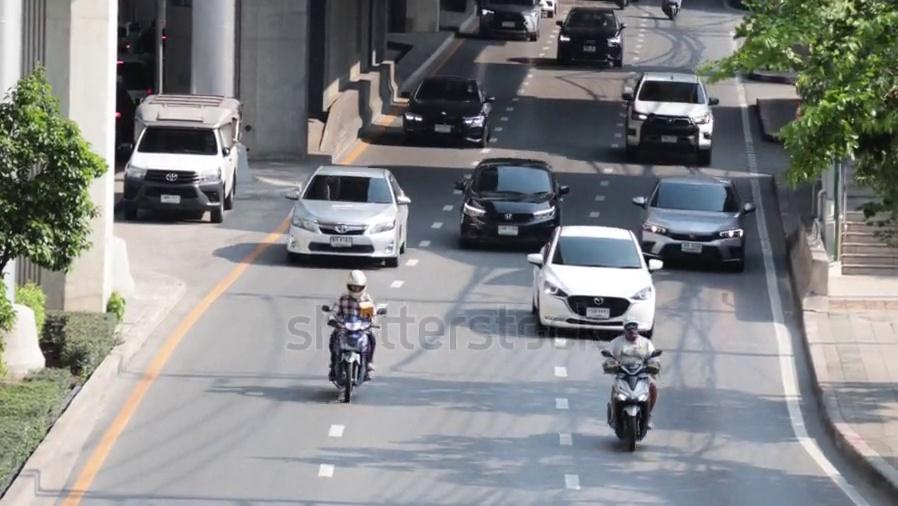rider: (324, 268, 385, 382), (601, 318, 660, 429)
with_helmate: (344, 269, 371, 297), (621, 317, 642, 341)
